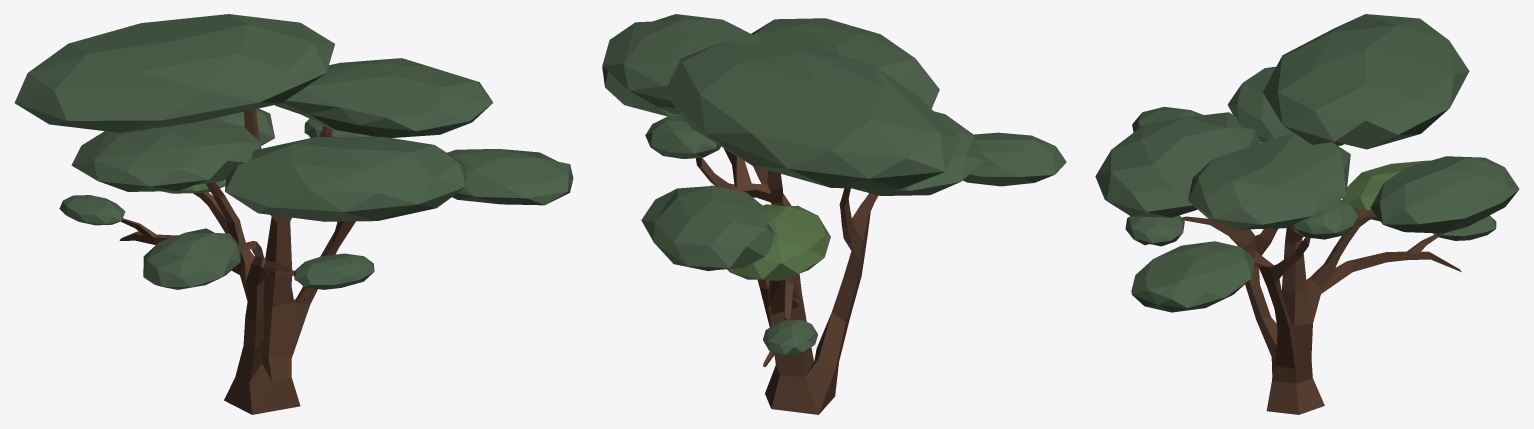
File: meatTree.fbx
3 views of the same model, side by side, from view 1: azimuth 30°, elevation 25°; view 2: azimuth 150°, elevation 25°; view 3: azimuth 270°, elevation 25° (orthographic). The views are drawn at different scales.
Parts seen in each view (by area): view 1: tree3dark, tree3light; view 2: tree3dark, tree3light; view 3: tree3dark, tree3light.
Boxes of the visible parts, box(x1,y1,x2,y2) form: tree3dark: box(14, 14, 573, 414); tree3light: box(162, 136, 277, 309); tree3dark: box(602, 14, 1066, 414); tree3light: box(727, 172, 862, 326); tree3dark: box(1095, 14, 1519, 414); tree3light: box(1255, 160, 1429, 368).
Size of the model in its own units: 2195 by 1650 by 1937.
